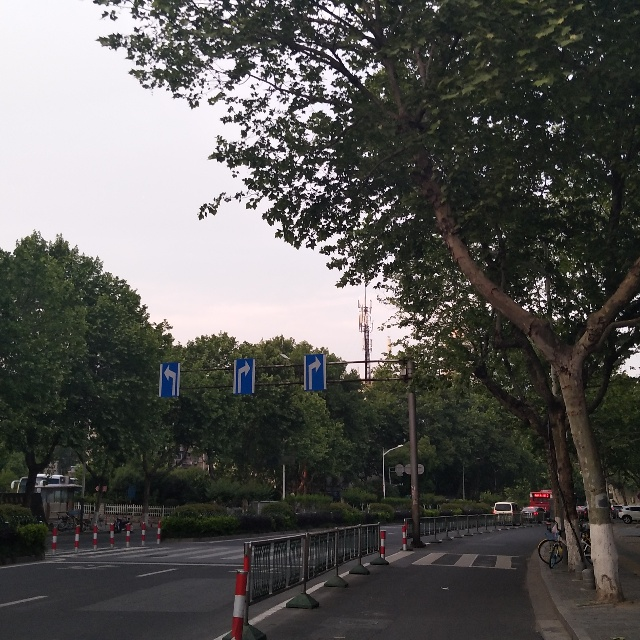left: (156, 359, 182, 403)
right: (232, 355, 265, 399), (303, 352, 327, 393)
